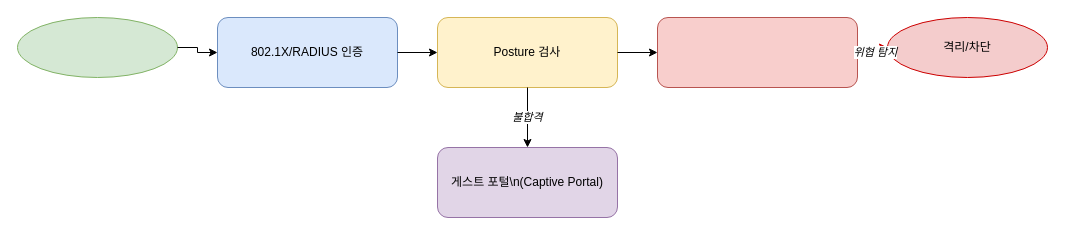
Some shapes in this 1065 by 235 pixel diagram are drawn without their labels. Here are the shapes that lost their labels. From the top down, the centre of each, then its label:
point (97, 47): 클라이언트 연결
point (757, 52): 정책 적용\n(VLAN/ACL/SDN)
